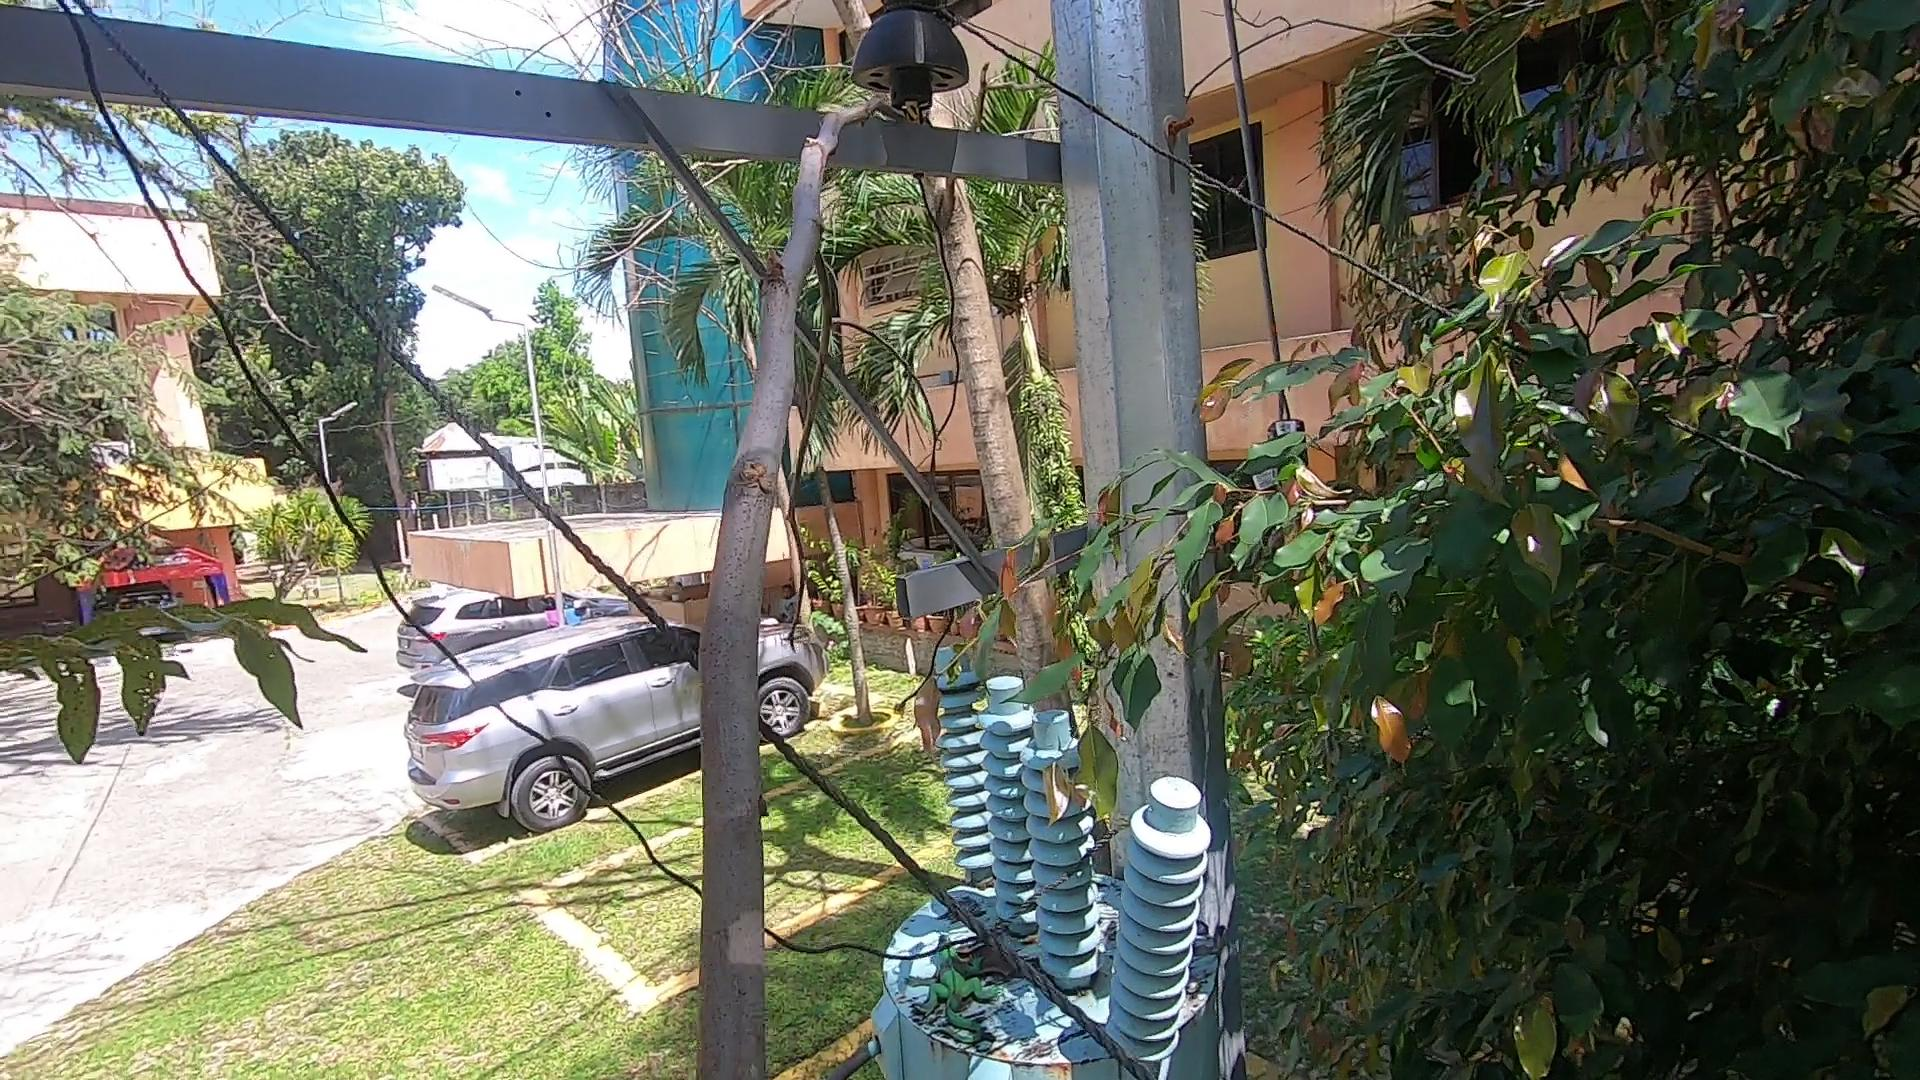branch with leaves: (905, 465, 1204, 847)
leaf: (953, 940, 1065, 982), (953, 876, 1001, 897)
tree branch: (687, 53, 848, 1080)
